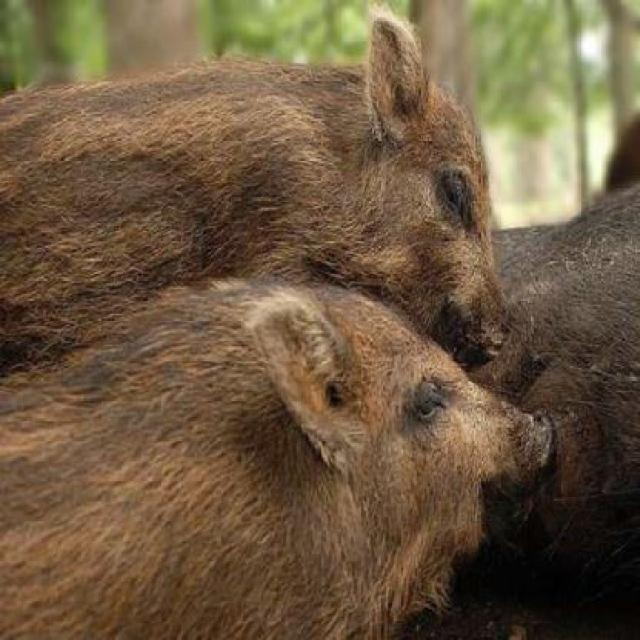Boar: (1, 267, 573, 640), (0, 14, 542, 389)
